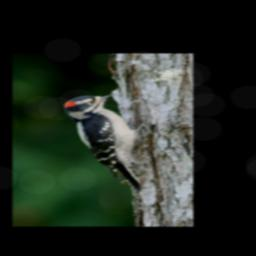Woodpecker: (61, 92, 148, 194)
